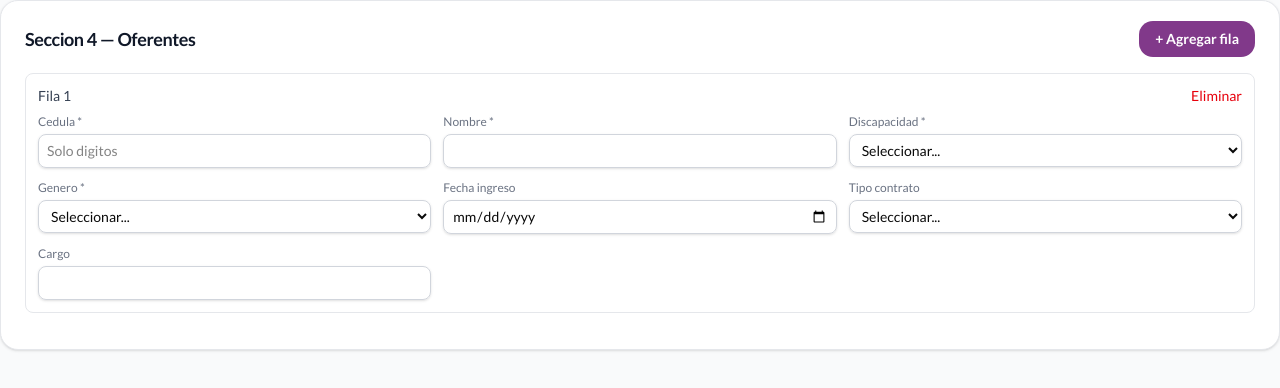
Test: Seccion4 catalog readonly state › bloquea discapacidad y genero cuando ambos valores de BD son canonicos
Type "123456" into the field with placeholder "Solo digitos" at point(235, 151), box [38,134,431,168]
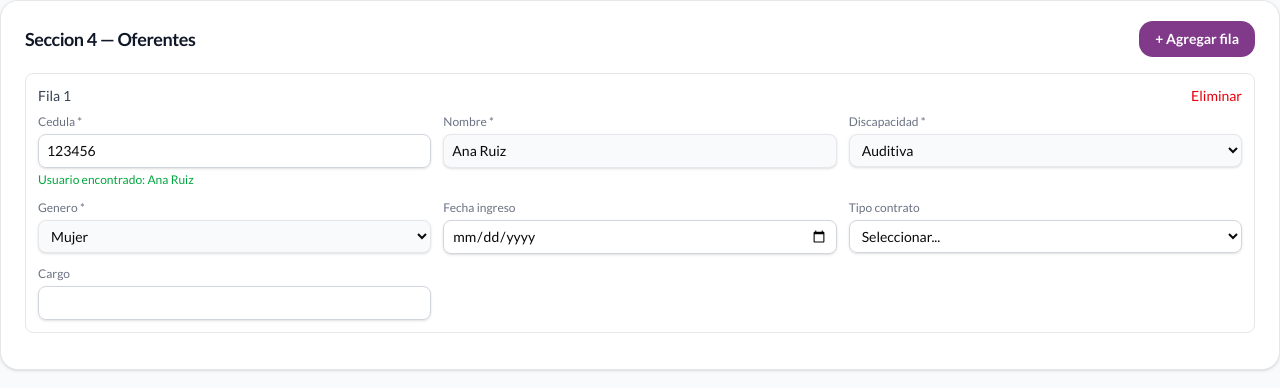
Check: the text "Usuario encontrado: Ana Ruiz" is shown, box [38,172,194,187]
Check: the dropdown below "Discapacidad *" is disabled, box [849,134,1242,167]
Check: the dropdown below "Discapacidad *" shows "Auditiva", box [849,134,1242,167]
